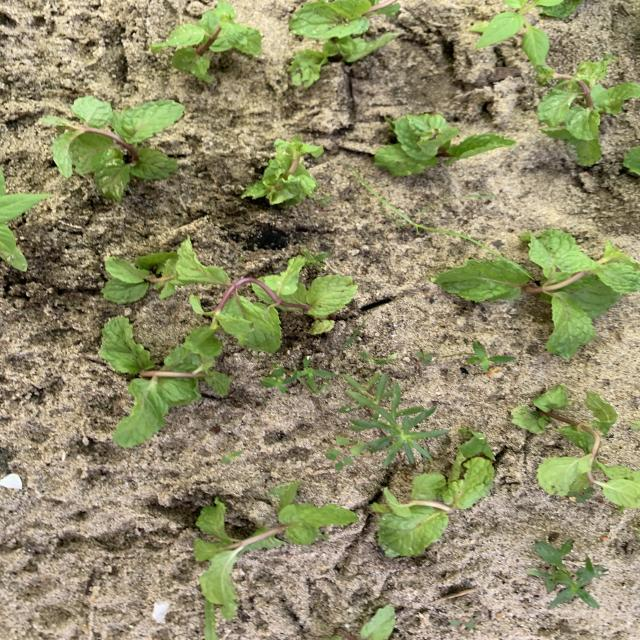crop: (435, 228, 639, 357), (193, 483, 358, 619), (99, 317, 231, 446), (193, 255, 358, 351), (512, 387, 639, 510), (372, 431, 492, 554), (41, 98, 183, 200), (535, 55, 640, 166), (289, 1, 400, 87), (151, 1, 262, 81), (375, 115, 509, 175), (103, 238, 226, 302), (241, 136, 323, 204), (323, 606, 395, 639)
weed: (339, 372, 449, 467), (356, 170, 487, 249), (470, 0, 562, 66), (0, 170, 50, 271), (526, 542, 601, 607), (262, 357, 334, 395), (326, 436, 368, 469), (467, 343, 515, 370), (302, 247, 329, 267), (345, 324, 363, 346), (450, 614, 477, 628), (574, 487, 594, 501), (360, 353, 391, 362), (221, 451, 242, 462), (314, 194, 330, 205), (417, 351, 432, 362), (631, 421, 639, 429)
